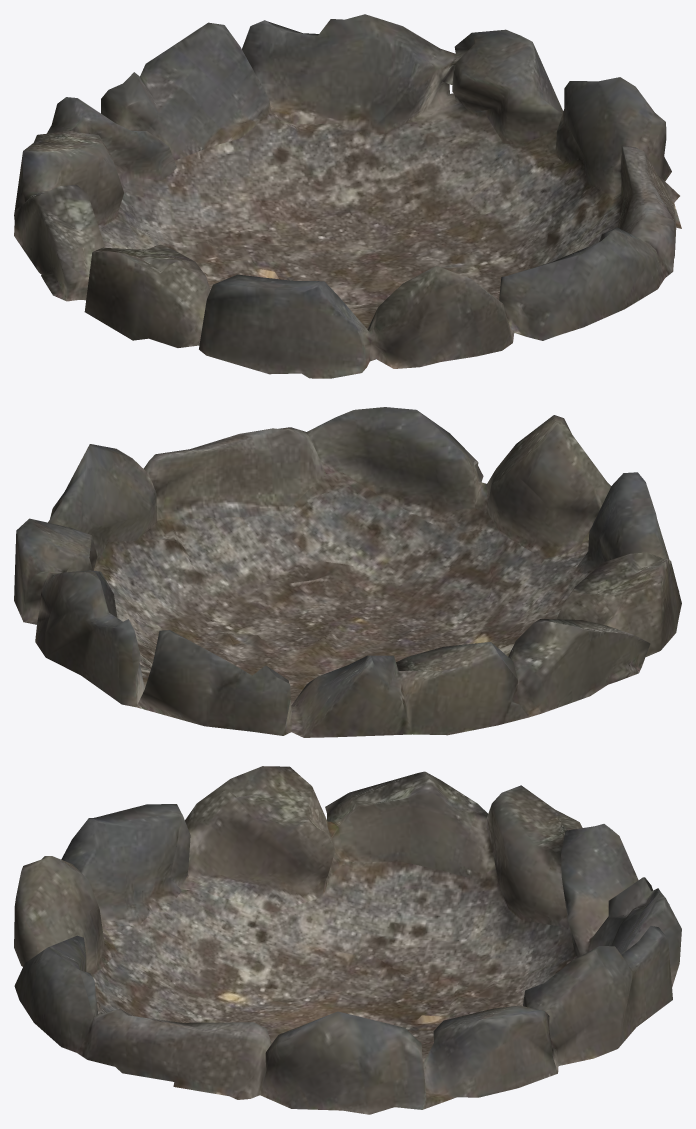
Rendered from stone_fire_pit.glb.
3 views of the same model, one above another, from view 1: azimuth 30°, elevation 25°; view 2: azimuth 150°, elevation 25°; view 3: azimuth 270°, elevation 25° (orthographic).
Visible parts, largest first — view 1: stone_fire_pit; view 2: stone_fire_pit; view 3: stone_fire_pit.
Part boxes in pixels (<box>): stone_fire_pit: <box>14,14,681,378</box>; stone_fire_pit: <box>14,407,681,737</box>; stone_fire_pit: <box>14,766,681,1114</box>.
Bounding box in the file's own units: 1.45 × 0.3883 × 1.43.
Materials: 1 (1 with a texture image).
